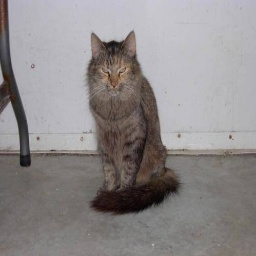cat: (73, 33, 188, 213)
